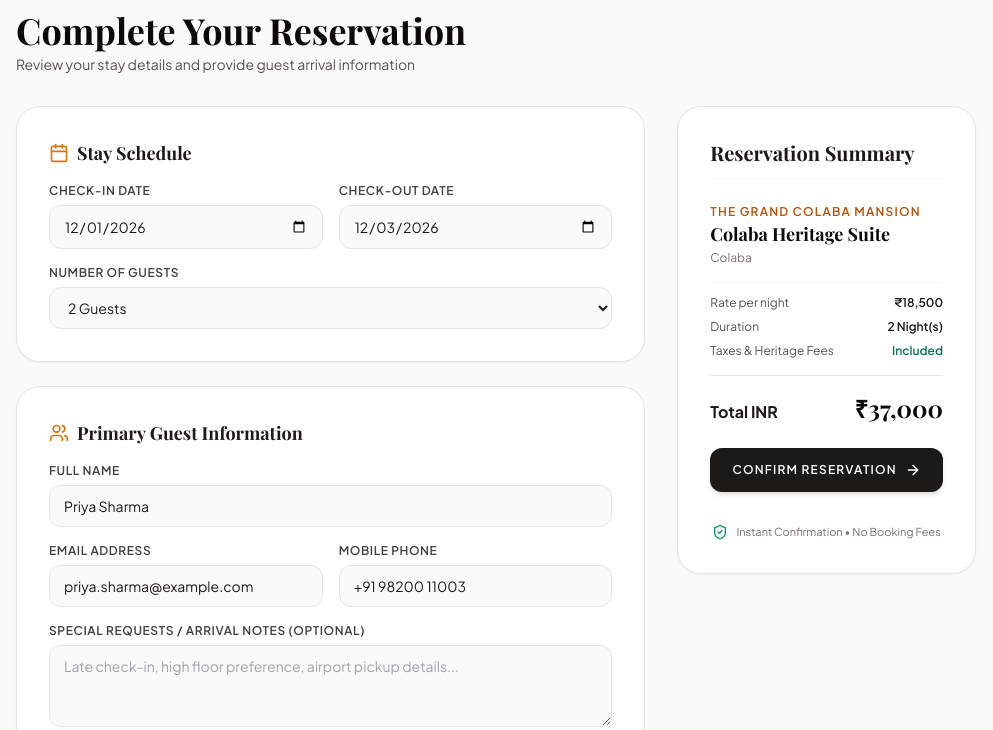
BookingFlowPage Component - Form Validation & Reservation Flow › displays server conflict error when double-booking is rejected with 409
Step 1. Click the button "Confirm Reservation" → (827, 470), box [710,448,943,492]
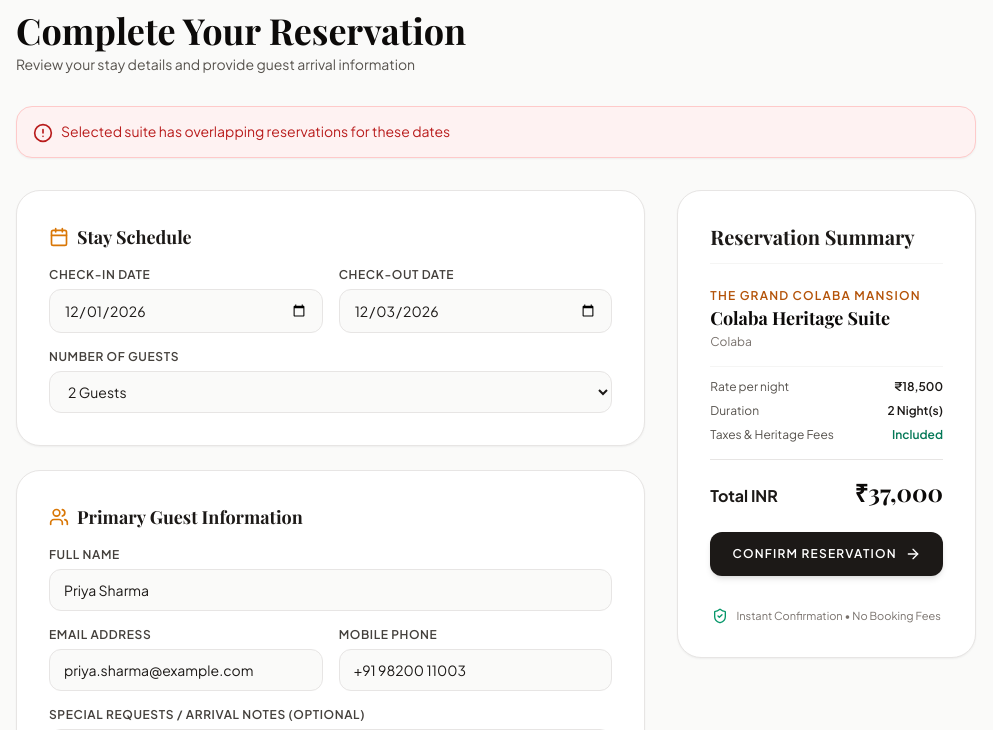
Now the text "Selected suite has overlapping reservations for these dates" is shown, box [61,121,450,141]
